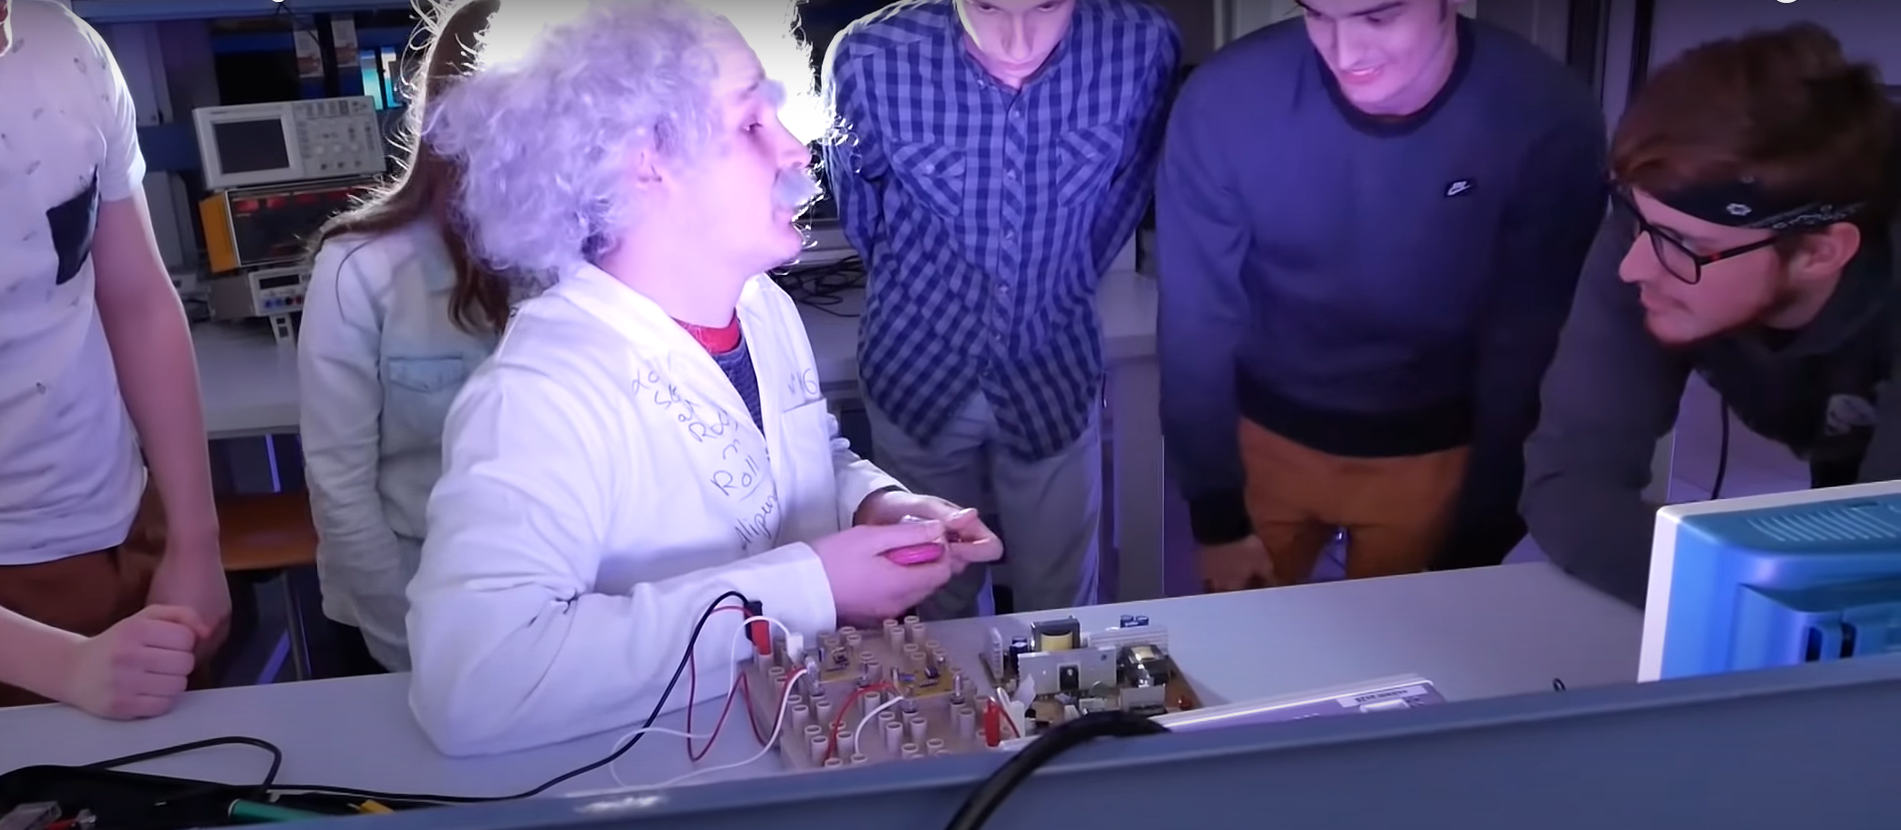without_mask: (624, 86, 801, 269), (1619, 159, 1794, 342), (1300, 1, 1457, 97), (965, 1, 1071, 80)
